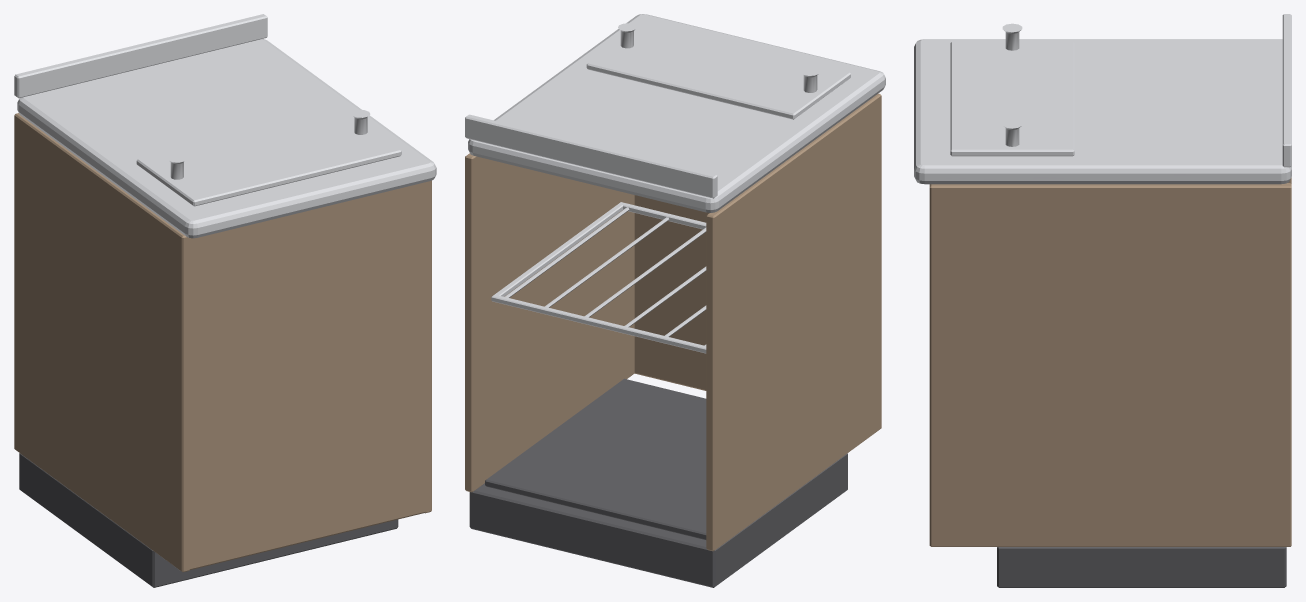
Rendered from fast-food-and-drive-thru-counter-module-600-timber-6c842450__16220.glb.
3 renders of one model, left to right at view 1: azimuth 30°, elevation 25°; view 2: azimuth 150°, elevation 25°; view 3: azimuth 270°, elevation 25°, orthographic. The views are drawn at different scales.
Visible parts, largest first — view 1: counter-module-600-timber; view 2: counter-module-600-timber; view 3: counter-module-600-timber.
Part boxes in pixels (<box>): counter-module-600-timber: <box>14,14,436,587</box>; counter-module-600-timber: <box>465,14,885,587</box>; counter-module-600-timber: <box>914,14,1291,587</box>.
Bounding box in the file's own units: 0.6001 × 0.956 × 0.73.
